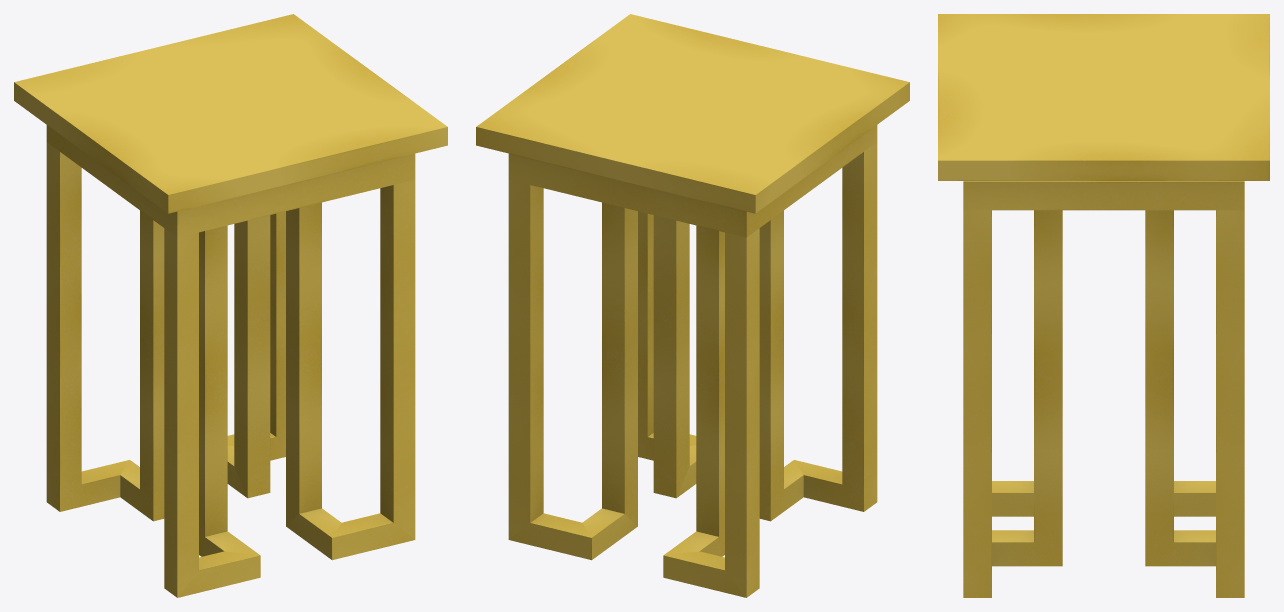
Rendered from S_Table.fbx.
3 views of the same model, side by side, from view 1: azimuth 30°, elevation 25°; view 2: azimuth 150°, elevation 25°; view 3: azimuth 270°, elevation 25° (orthographic). The views are drawn at different scales.
Parts seen in each view (by area): view 1: S_table; view 2: S_table; view 3: S_table.
Part boxes in pixels (x1,y1,x2,y2): S_table: (14, 14, 447, 597); S_table: (476, 14, 909, 597); S_table: (938, 14, 1269, 597).
Size of the model in its own units: 4.35 by 6.19 by 4.16.
1 material, 1 textured.
